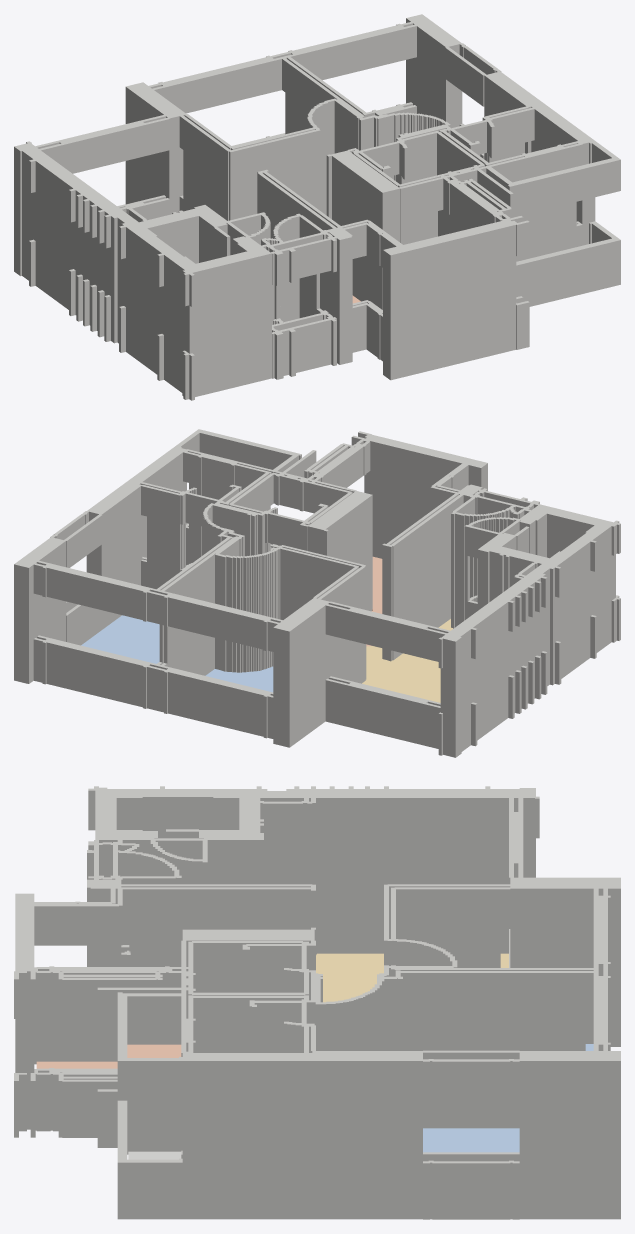
The picture shows the model from 3 angles, top to bottom: view 1: azimuth 30°, elevation 25°; view 2: azimuth 150°, elevation 25°; view 3: azimuth 270°, elevation 25°; orthographic projection. The views are drawn at different scales.
Parts seen in each view (by area): view 1: walls; view 2: walls, room:living:1, room:bedroom:5, room:bedroom:0, room:kitchen:4; view 3: walls, room:living:1, room:bedroom:5, room:kitchen:4.
Part boxes in pixels (x1,y1,x2,y2): walls: [14, 14, 620, 400]; walls: [14, 429, 620, 757]; room:living:1: [362, 619, 453, 702]; room:bedroom:5: [81, 615, 159, 663]; room:bedroom:0: [205, 666, 273, 692]; room:kitchen:4: [366, 556, 382, 646]; walls: [14, 786, 620, 1219]; room:living:1: [316, 953, 508, 1002]; room:bedroom:5: [423, 1128, 519, 1152]; room:kitchen:4: [36, 1044, 181, 1068].
Bounding box in the file's own units: 10.45 × 2.8 × 9.73.
